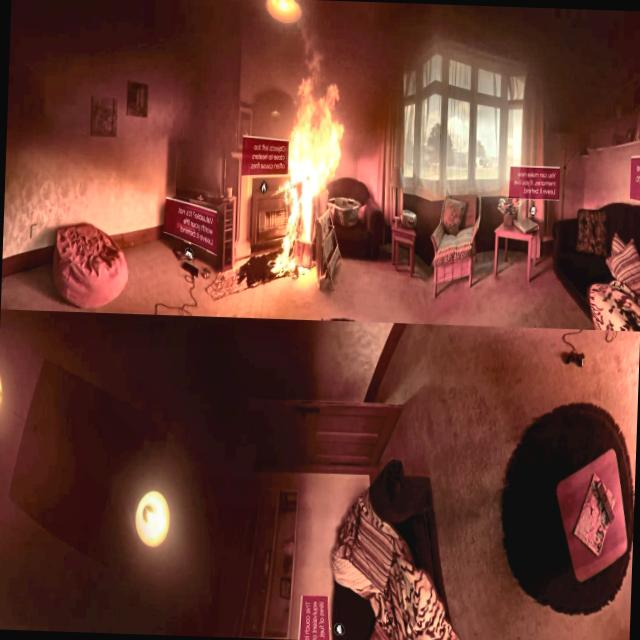fire: (268, 61, 351, 270)
